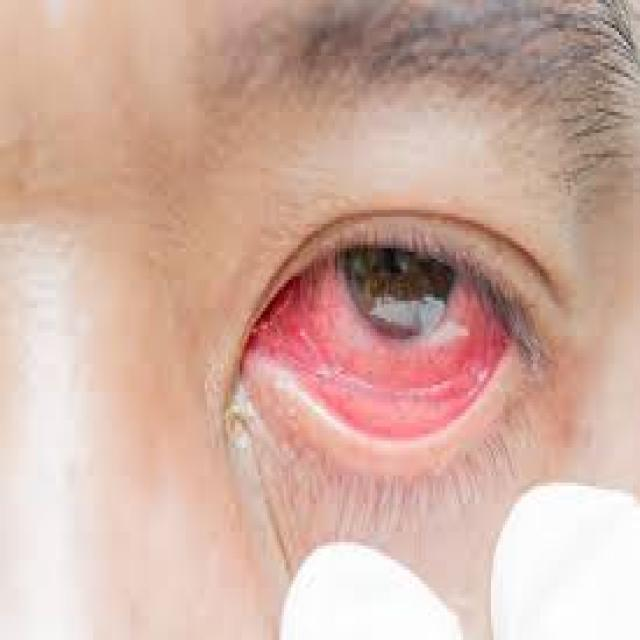Conjunctivitis: (242, 281, 532, 422)
